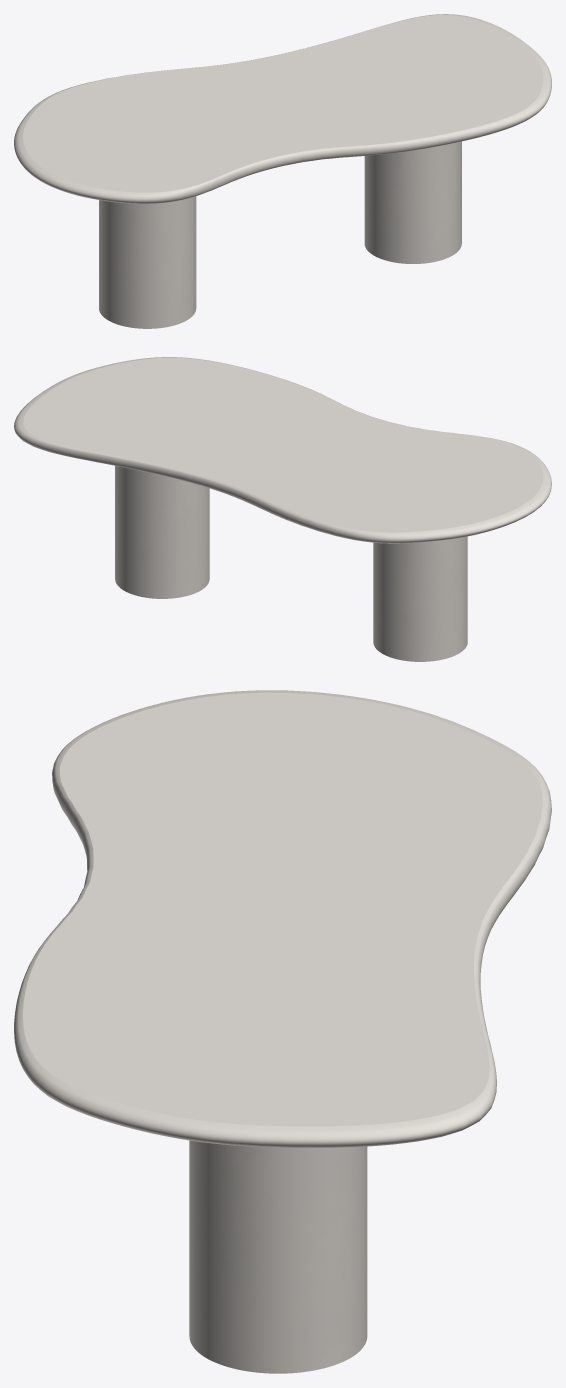
Rendered from pearlwhite_wave_round_stream.glb.
The picture shows the model from 3 angles, top to bottom: view 1: azimuth 30°, elevation 25°; view 2: azimuth 150°, elevation 25°; view 3: azimuth 270°, elevation 25°; orthographic projection. The views are drawn at different scales.
Visible parts, largest first — view 1: round_wave, stream; view 2: round_wave, stream; view 3: round_wave, stream.
Boxes of the visible parts, <box> form: round_wave: <box>14,14,551,203</box>; stream: <box>99,141,461,328</box>; round_wave: <box>14,357,551,543</box>; stream: <box>115,466,467,661</box>; round_wave: <box>14,690,551,1147</box>; stream: <box>189,1140,367,1373</box>.
Size of the model in its own units: 7.76 by 2.5 by 3.93.
1 material, 1 textured.
